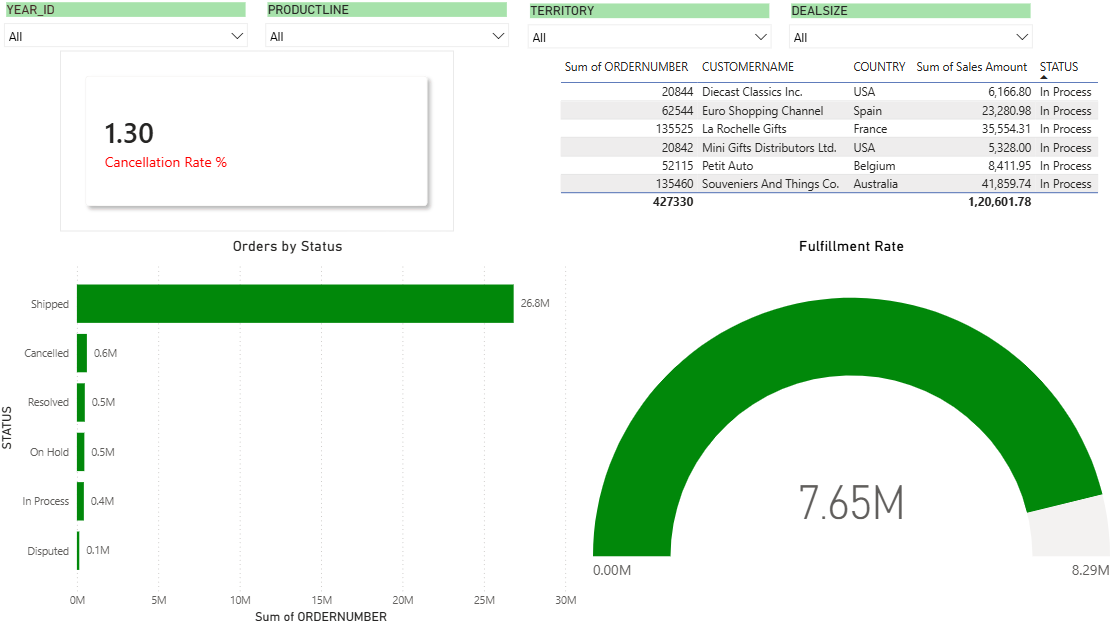

What the dashboard file says about the page in this screenshot:
{"tool":"powerbi","page":{"name":"Operations","canvas":[1280,720],"ordinal":4},"visuals":[{"type":"cardVisual","fields":{"Data":["_Measures.Cancellation Rate %"]},"box":[74.9,59.6,449.4,207.7],"z":0},{"type":"gauge","title":"Fulfillment Rate","fields":{"Y":["_Measures.Shipped Revenue"],"MaxValue":["Sales.Total Revenue"]},"box":[679.1,272.3,600.9,447.7],"z":1000},{"type":"barChart","title":"Orders by Status","fields":{"Category":["Sales.STATUS"],"Y":["Sum(Sales.ORDERNUMBER)"]},"box":[0,272.3,668.9,447.7],"z":2000},{"type":"tableEx","fields":{"Values":["Sum(Sales.ORDERNUMBER)","Sales.CUSTOMERNAME","Sales.COUNTRY","Sum(Sales.Sales Amount)","Sales.STATUS"]},"box":[640,62.9,628.6,210],"z":3000},{"type":"slicer","fields":{"Values":["Sales.YEAR_ID"]},"box":[0,0,299.1,59],"z":4000},{"type":"slicer","fields":{"Values":["Sales.PRODUCTLINE"]},"box":[299.1,0,299.1,59],"z":5000},{"type":"slicer","fields":{"Values":["Sales.TERRITORY"]},"box":[598.3,1.4,299.1,59],"z":6000},{"type":"slicer","fields":{"Values":["Sales.DEALSIZE"]},"box":[897.4,1.4,299.1,59],"z":7000}]}

Visuals, with their boxes in screenshot pixels (x1, y1, x2, y2), scaled from the page's 1280x720 canvas onto the 1115x627 screenshot:
cardVisual - _Measures.Cancellation Rate %: (x1=65, y1=52, x2=457, y2=233)
"Fulfillment Rate" gauge: (x1=592, y1=237, x2=1114, y2=626)
"Orders by Status" barChart: (x1=0, y1=237, x2=583, y2=626)
tableEx - Sum(Sales.ORDERNUMBER) x Sales.CUSTOMERNAME: (x1=558, y1=55, x2=1105, y2=238)
slicer - Sales.YEAR_ID: (x1=0, y1=0, x2=261, y2=51)
slicer - Sales.PRODUCTLINE: (x1=261, y1=0, x2=521, y2=51)
slicer - Sales.TERRITORY: (x1=521, y1=1, x2=782, y2=53)
slicer - Sales.DEALSIZE: (x1=782, y1=1, x2=1042, y2=53)
